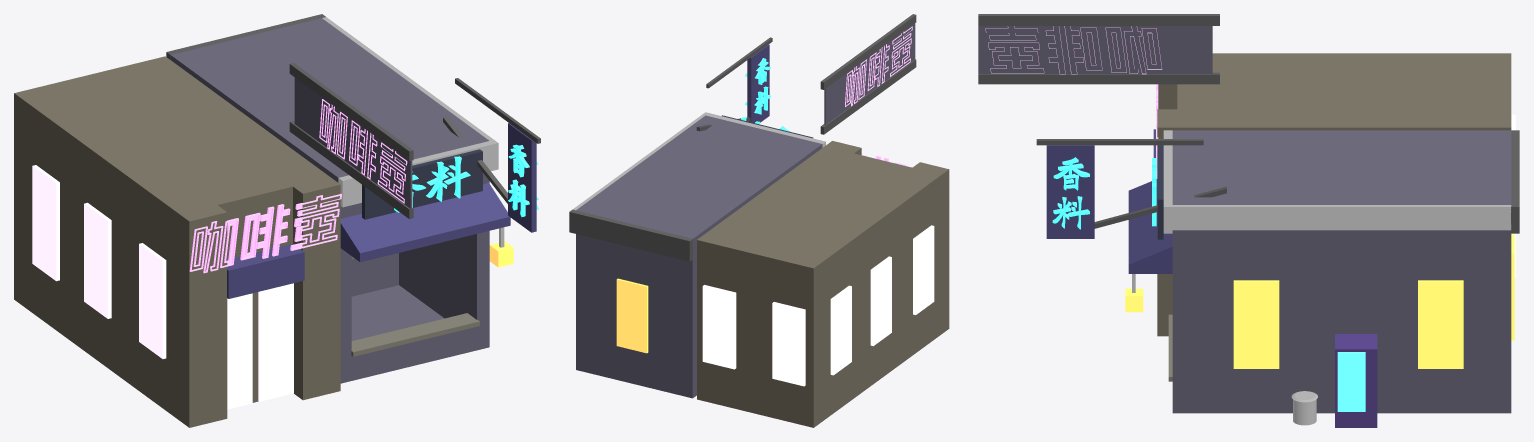
3 renders of one model, left to right at view 1: azimuth 30°, elevation 25°; view 2: azimuth 150°, elevation 25°; view 3: azimuth 270°, elevation 25°, orthographic. The views are drawn at different scales.
Parts seen in each view (by area): view 1: Cube.028, Cube.001, Cube.002, Cube.031, Text.001, Cube.019, Cube.016, Cube.020, Cube.023, Cube.024, Cube.022, Cube.021 (+13 smaller); view 2: Cube.028, Cube.001, Cube.031, Cube.012, Cube.026, Cube.025, Cube.013, Cube.022, Cube.023, Cube.024, Text.003, Cube.030 (+6 smaller); view 3: Cube.001, Cube.028, Cube.031, Cube.010, Cube.008, Cube.009, Cube.030, Cube.002, Cube.027, Cube.029, Cube.014, Cube.015 (+8 smaller).
Part boxes in pixels (bbox=[...]): Cube.028: bbox=[14, 56, 340, 427]; Cube.001: bbox=[171, 18, 489, 383]; Cube.002: bbox=[340, 183, 510, 262]; Cube.031: bbox=[294, 77, 412, 208]; Text.001: bbox=[189, 193, 341, 273]; Cube.019: bbox=[258, 283, 293, 401]; Cube.016: bbox=[362, 149, 482, 219]; Cube.020: bbox=[227, 293, 252, 409]; Cube.023: bbox=[32, 165, 59, 281]; Cube.024: bbox=[84, 202, 111, 318]; Cube.022: bbox=[139, 243, 166, 358]; Cube.021: bbox=[227, 243, 304, 298]; Cube.028: bbox=[697, 141, 949, 427]; Cube.001: bbox=[576, 115, 822, 398]; Cube.031: bbox=[824, 23, 915, 124]; Cube.012: bbox=[569, 209, 692, 261]; Cube.026: bbox=[702, 285, 736, 369]; Cube.025: bbox=[772, 302, 805, 386]; Cube.013: bbox=[616, 278, 648, 353]; Cube.022: bbox=[913, 225, 934, 314]; Cube.023: bbox=[830, 285, 851, 375]; Cube.024: bbox=[870, 256, 891, 346]; Text.003: bbox=[845, 26, 912, 106]; Cube.030: bbox=[747, 44, 769, 122]; Cube.001: bbox=[1172, 130, 1511, 413]; Cube.028: bbox=[1157, 53, 1511, 336]; Cube.031: bbox=[978, 26, 1212, 73]; Cube.010: bbox=[1172, 205, 1511, 230]; Cube.008: bbox=[1233, 280, 1279, 368]; Cube.009: bbox=[1418, 280, 1463, 368]; Cube.030: bbox=[1046, 145, 1094, 238]; Cube.002: bbox=[1128, 179, 1172, 273]; Cube.027: bbox=[978, 14, 1219, 25]; Cube.029: bbox=[978, 72, 1219, 84]; Cube.014: bbox=[1335, 334, 1377, 427]; Cube.015: bbox=[1337, 352, 1365, 411].
Size of the model in its own units: 14.16 by 12.13 by 19.06.
